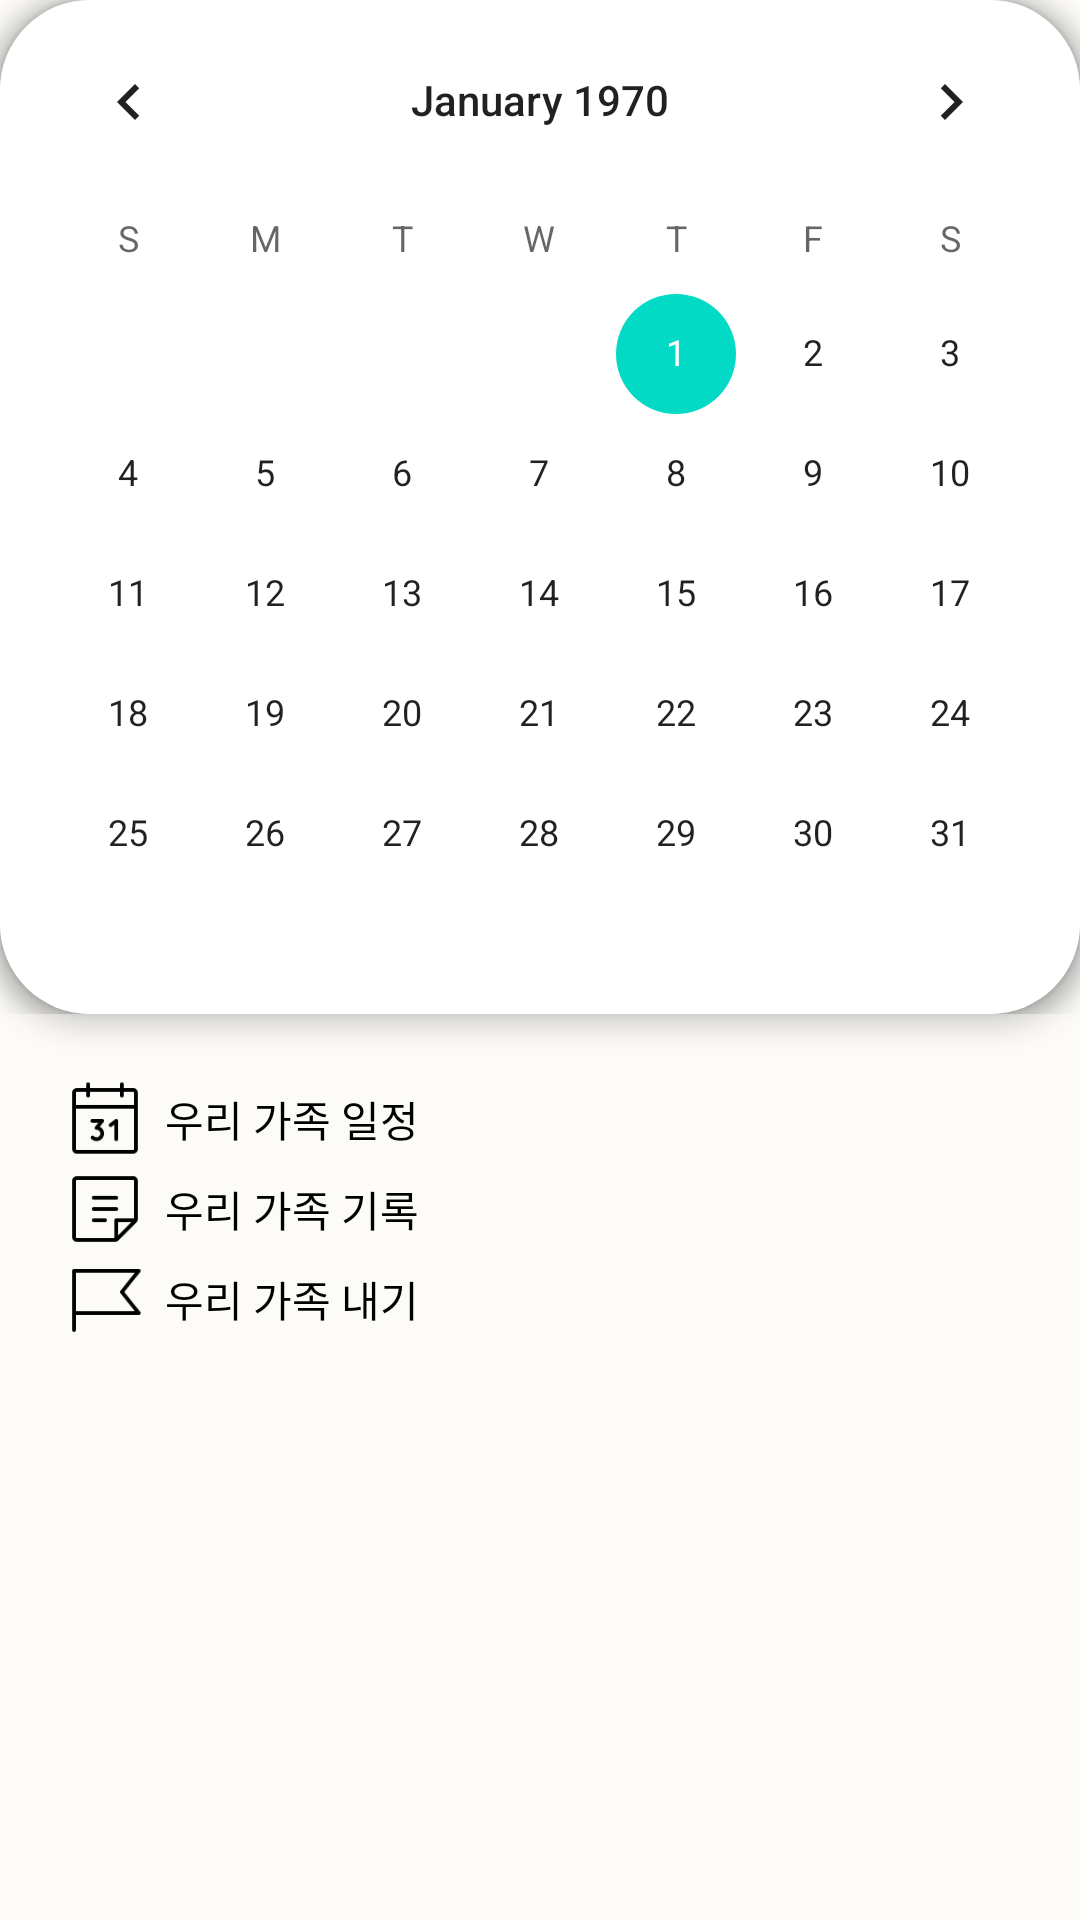

Icon bounding boxes for this 1080px×1920px phone screenshot, format (x1, y1, x2, y2):
schedule: (72, 1082, 138, 1154)
